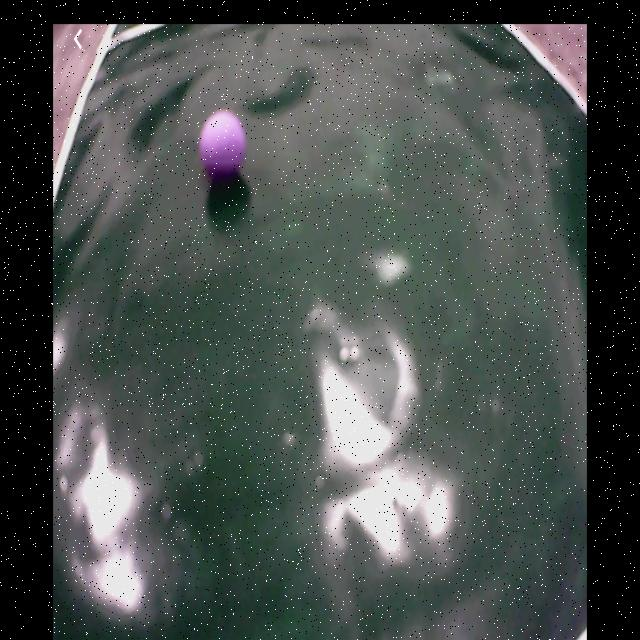ball: (199, 112, 247, 183)
